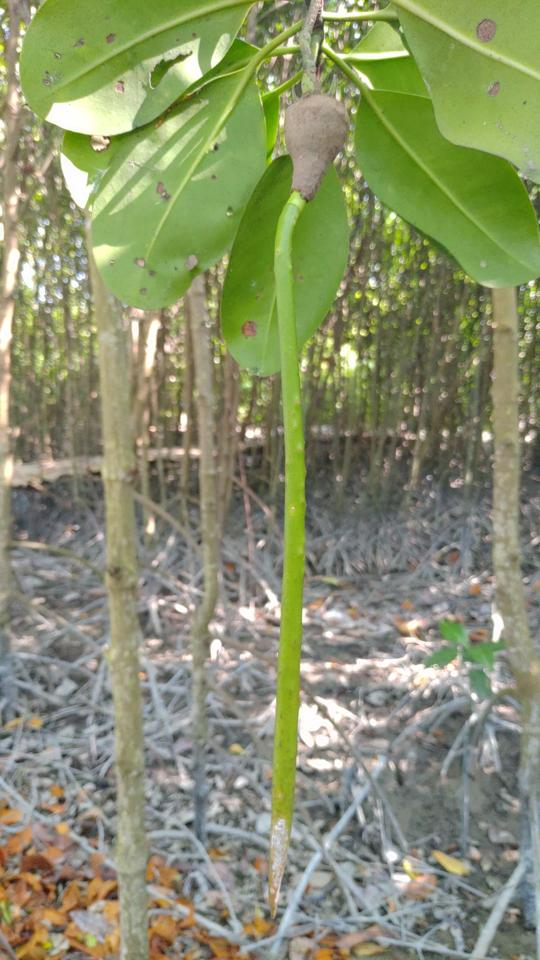setengah matang: (256, 71, 367, 925)
